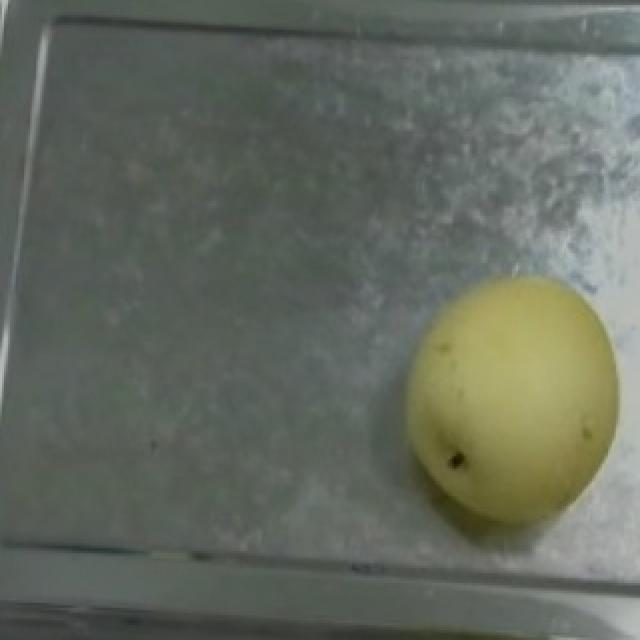Fruit: (378, 253, 640, 541)
